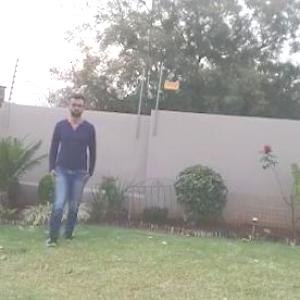follow: (47, 94, 96, 244)
